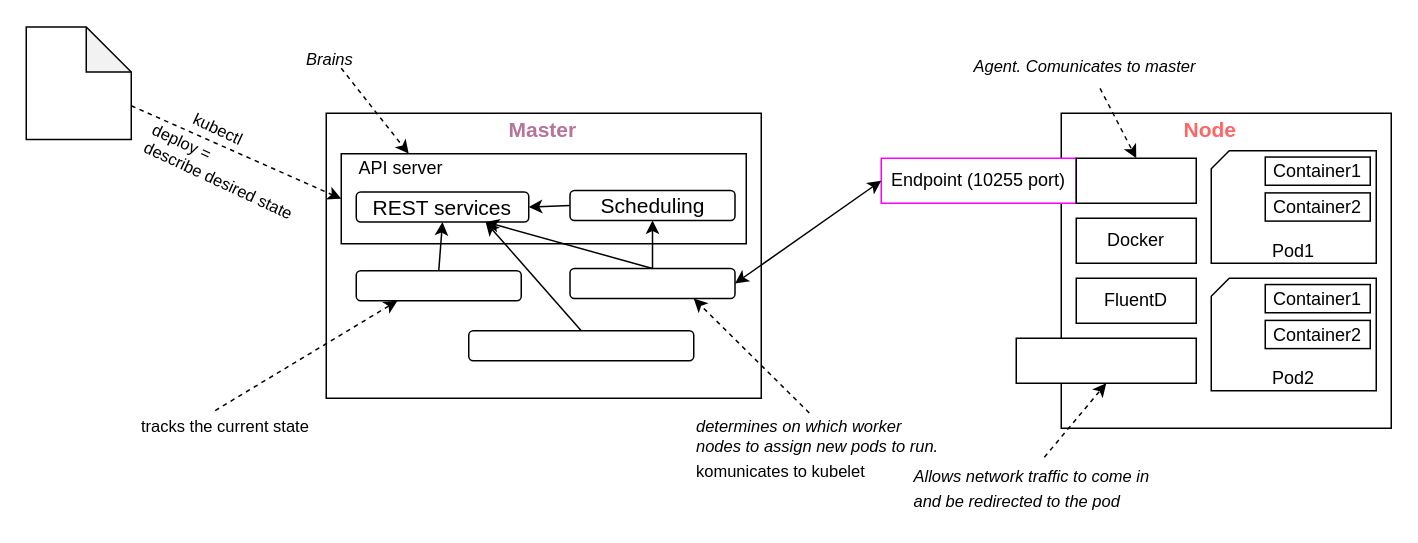
Some shapes in this 1418 by 543 pixel diagram are drawn without their labels. The centre of each missing label's shape, as x and y in pixels:
etcd: point (438, 285)
Kube-proxy: point (1105, 360)
Kubelet: point (1135, 180)
Replication controllers: point (580, 345)
Scheduler: point (651, 282)
Yaml: point (78, 83)
